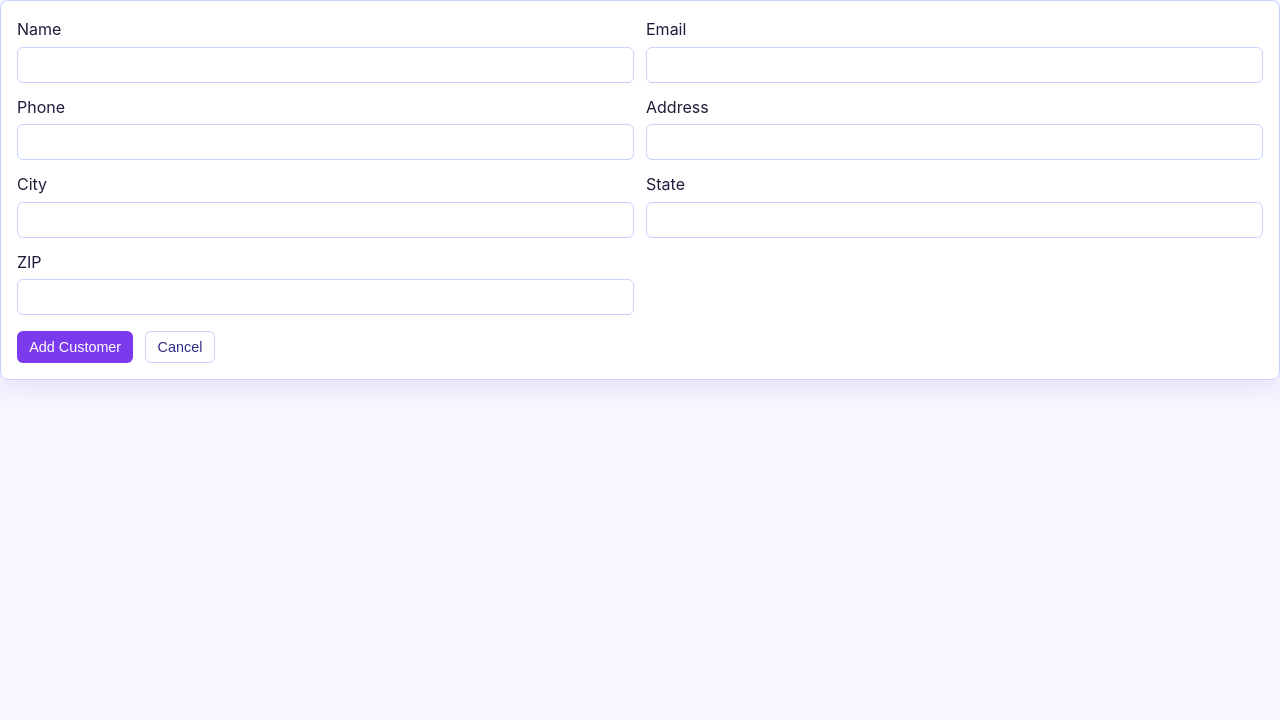
Test: CustomerForm › shows validation errors when required fields are empty
What coordinates should you click on to do the following:
click the button "Add Customer"
I would click on:
 (75, 347)
Its box is [17,331,133,364].
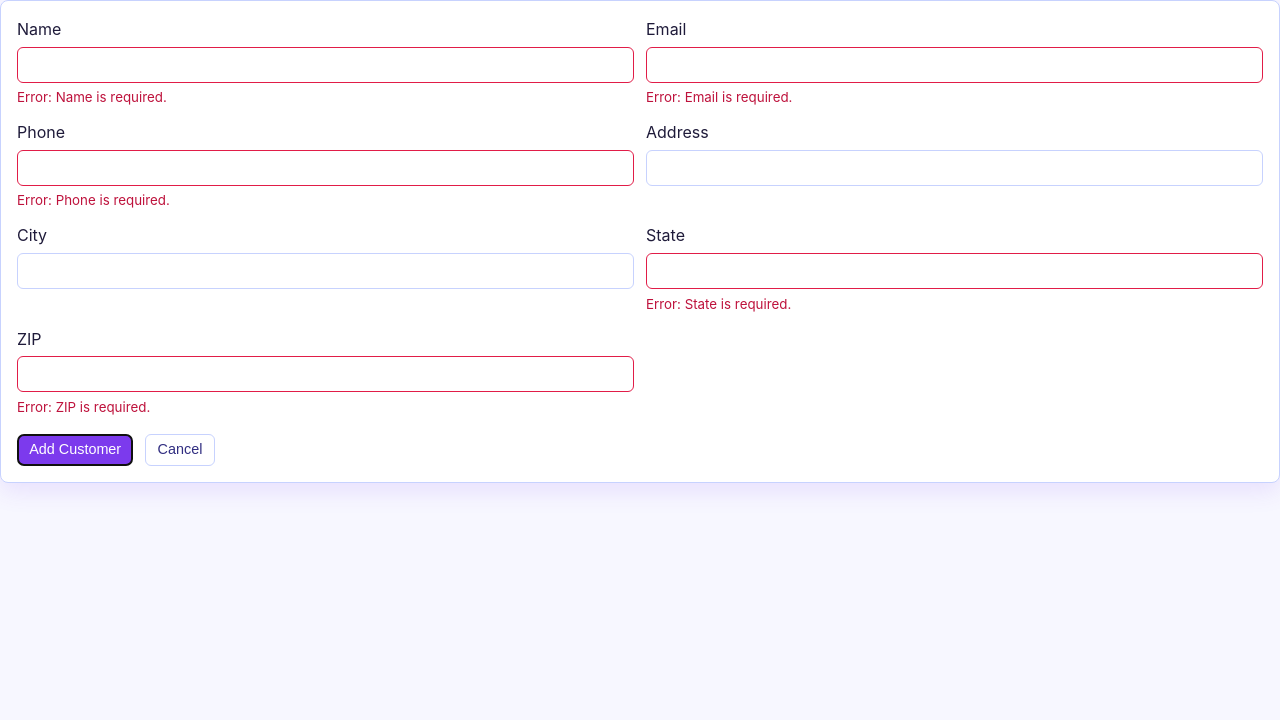
Now the text "Error: Name is required." is shown, box [17,89,167,105]
Now the text "Error: Email is required." is shown, box [646,89,792,105]
Now the text "Error: Phone is required." is shown, box [17,192,170,208]
